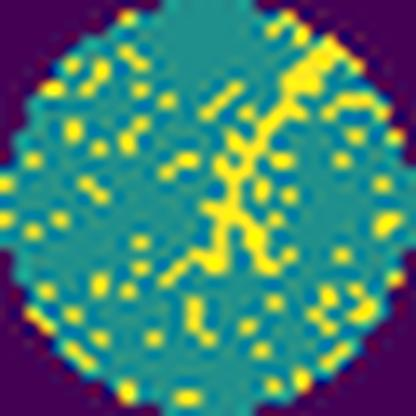Scratch: (157, 35, 361, 292)
